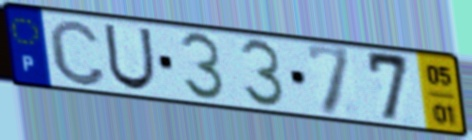3: (176, 29, 227, 104), (236, 36, 287, 111)
7: (305, 41, 355, 120), (363, 48, 414, 125)
C: (45, 17, 109, 88)
U: (101, 22, 158, 93)
